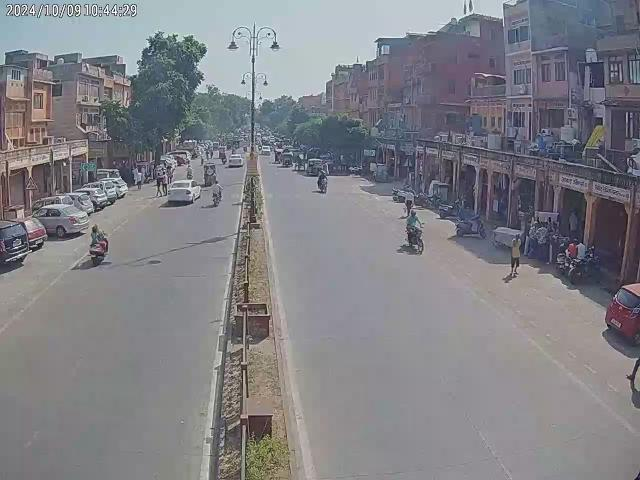auto: (202, 163, 218, 185), (306, 158, 324, 176)
car: (30, 201, 90, 239), (606, 284, 640, 342), (0, 217, 32, 268), (89, 177, 128, 201), (167, 178, 200, 206), (226, 154, 244, 168)
motorbike: (570, 255, 600, 285), (391, 186, 415, 204)
motorbike-rider: (405, 209, 425, 252), (211, 180, 223, 205), (317, 169, 329, 192)
person: (507, 234, 523, 282), (134, 166, 143, 188)
scooty: (455, 214, 487, 238), (438, 199, 464, 218)
scooty-rider: (89, 222, 108, 264)
